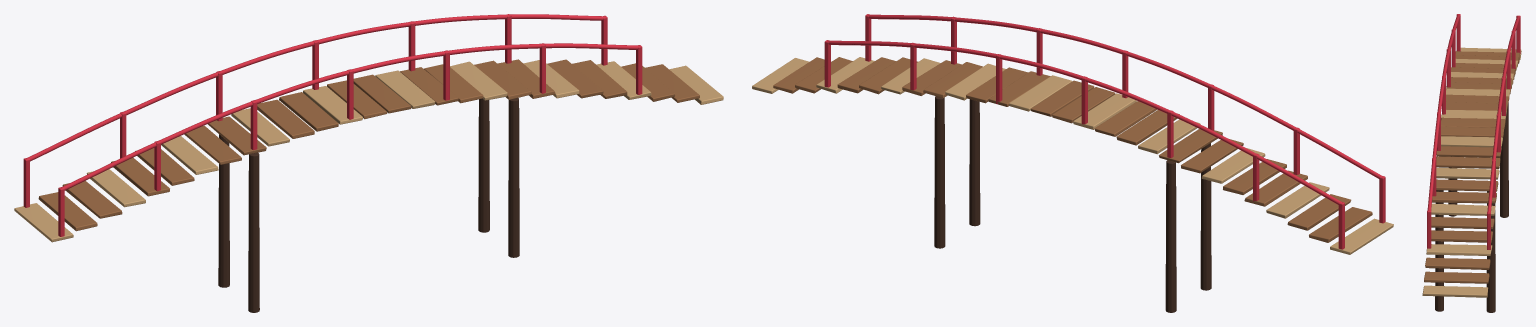
Rendered from footbridge.glb.
The picture shows the model from 3 angles, left to right: view 1: azimuth 30°, elevation 25°; view 2: azimuth 150°, elevation 25°; view 3: azimuth 270°, elevation 25°; orthographic projection. The views are drawn at different scales.
Visible parts, largest first — view 1: bridge_rail, bridge_rail.001, bridge_pile.002, bridge_pile, bridge_pile.003, bridge_pile.001, bridge_plank.011, bridge_plank.010, bridge_plank.014, bridge_plank.015, bridge_plank.006, bridge_plank.002 (+22 smaller); view 2: bridge_rail, bridge_rail.001, bridge_pile.001, bridge_pile.003, bridge_pile.002, bridge_pile, bridge_plank.011, bridge_plank.015, bridge_plank, bridge_plank.002, bridge_plank.003, bridge_plank.012 (+22 smaller); view 3: bridge_rail.001, bridge_rail, bridge_pile.001, bridge_plank.026, bridge_plank.025, bridge_plank.027, bridge_plank.017, bridge_plank.024, bridge_plank.021, bridge_plank.023, bridge_pile.003, bridge_plank.022 (+35 smaller).
Boxes of the visible parts, bbox=[...] form: bridge_rail: bbox=[61, 43, 639, 190]; bridge_rail.001: bbox=[26, 14, 604, 161]; bridge_pile.002: bbox=[508, 98, 519, 257]; bridge_pile: bbox=[248, 152, 259, 312]; bridge_pile.003: bbox=[478, 98, 489, 232]; bridge_pile.001: bbox=[218, 134, 229, 287]; bridge_plank.011: bbox=[279, 92, 338, 131]; bridge_plank.010: bbox=[257, 99, 314, 138]; bridge_plank.014: bbox=[353, 74, 411, 113]; bridge_plank.015: bbox=[375, 70, 435, 108]; bridge_plank.006: bbox=[161, 136, 218, 174]; bridge_plank.002: bbox=[62, 181, 122, 218]; bridge_rail: bbox=[867, 14, 1382, 178]; bridge_rail.001: bbox=[827, 40, 1342, 204]; bridge_pile.001: bbox=[1165, 160, 1176, 312]; bridge_pile.003: bbox=[934, 96, 945, 248]; bridge_pile.002: bbox=[969, 99, 980, 226]; bridge_pile: bbox=[1200, 143, 1211, 290]; bridge_plank.011: bbox=[1094, 101, 1157, 136]; bridge_plank.015: bbox=[1009, 75, 1072, 111]; bridge_plank: bbox=[1330, 218, 1393, 254]; bridge_plank.002: bbox=[1287, 194, 1351, 230]; bridge_plank.003: bbox=[1266, 182, 1329, 218]; bridge_plank.012: bbox=[1073, 93, 1136, 129]; bridge_rail.001: bbox=[1487, 16, 1519, 212]; bridge_rail: bbox=[1427, 14, 1460, 210]; bridge_pile.001: bbox=[1500, 103, 1508, 217]; bridge_plank.026: bbox=[1424, 271, 1489, 283]; bridge_plank.025: bbox=[1425, 257, 1490, 269]; bridge_plank.027: bbox=[1422, 285, 1488, 297]; bridge_plank.017: bbox=[1436, 156, 1500, 168]; bridge_plank.024: bbox=[1426, 244, 1492, 255]; bridge_plank.021: bbox=[1431, 203, 1495, 215]; bridge_plank.023: bbox=[1431, 230, 1492, 242]; bridge_pile.003: bbox=[1486, 191, 1495, 312]; bridge_plank.022: bbox=[1431, 217, 1494, 229].
Size of the model in its own units: 11.34 by 3.71 by 1.92.
